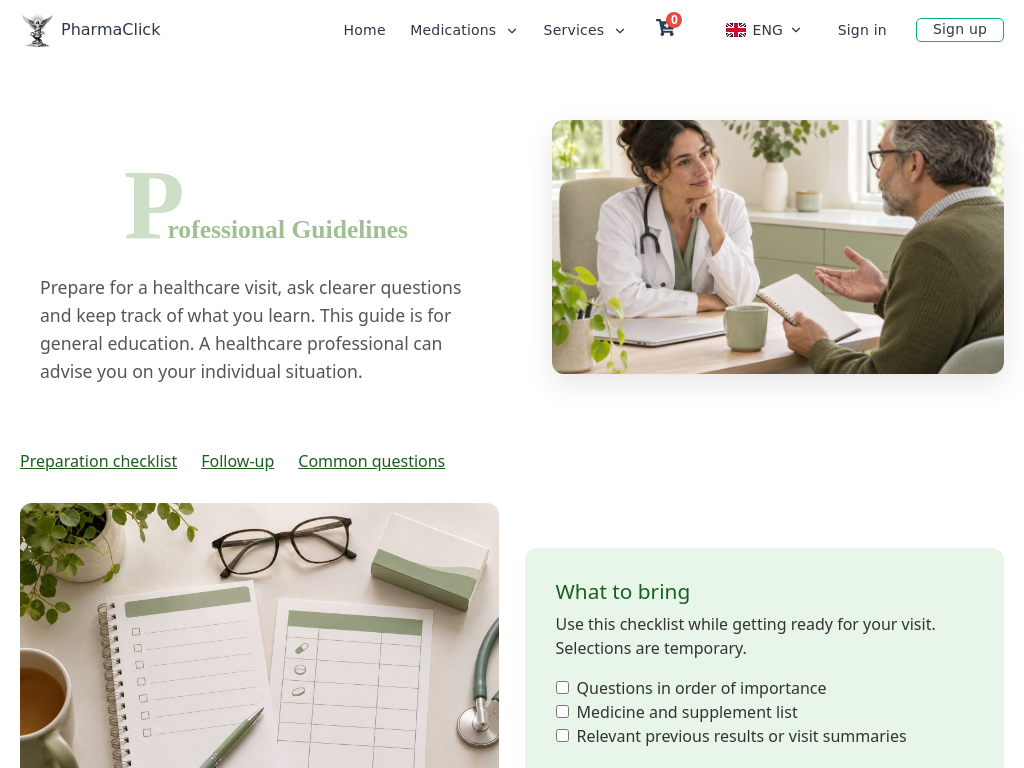
Test case: opens the Medications menu from the keyboard and keeps one mega menu open
Press ArrowDown in the button "Medications", box [410, 8, 519, 52]
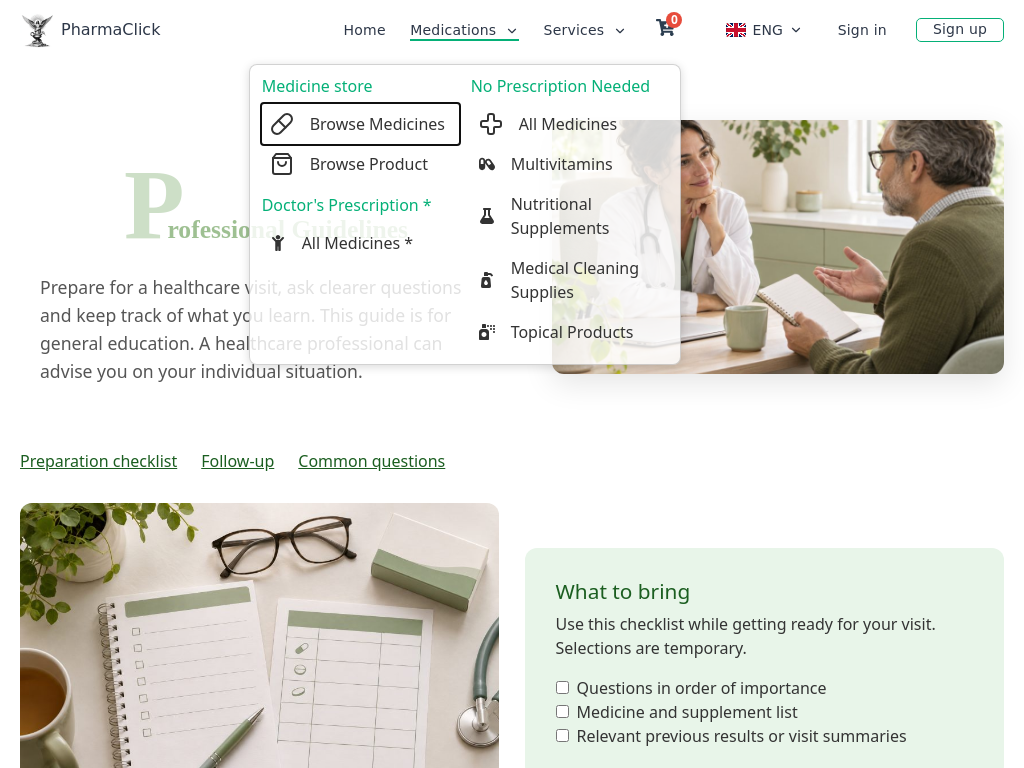
Now the button "Medications" is expanded, box [410, 8, 519, 52]
Press Escape in the link "Browse Medicines", box [262, 104, 459, 144]
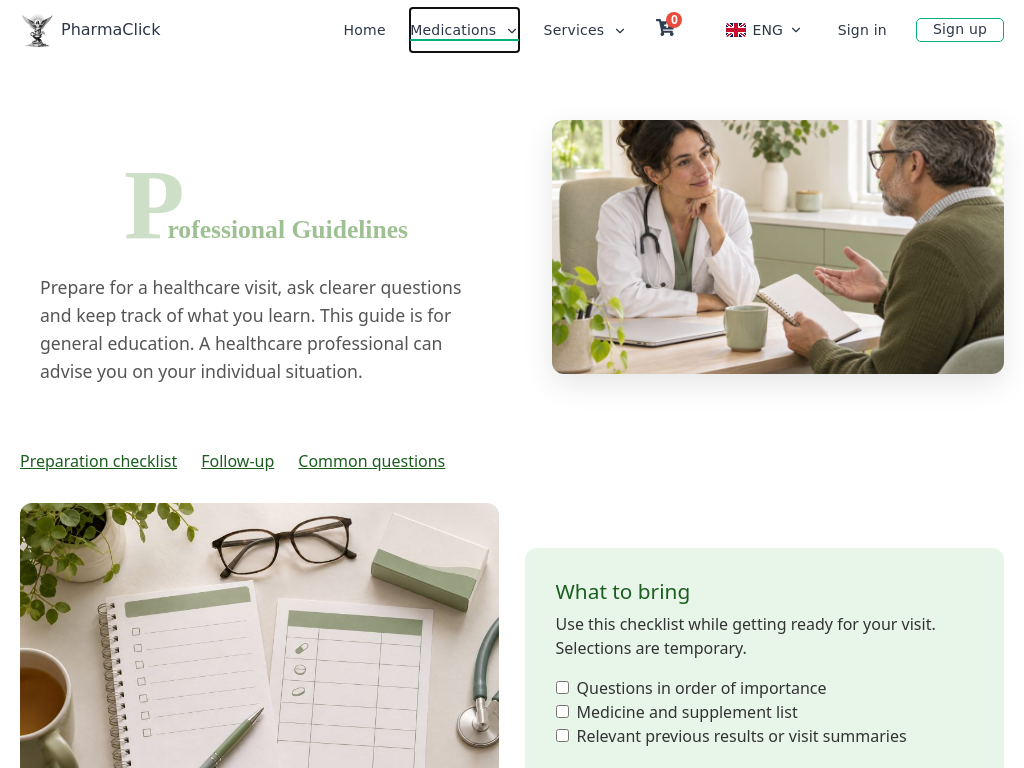
Click the button "Medications": point(465, 30) [410, 8, 519, 52]
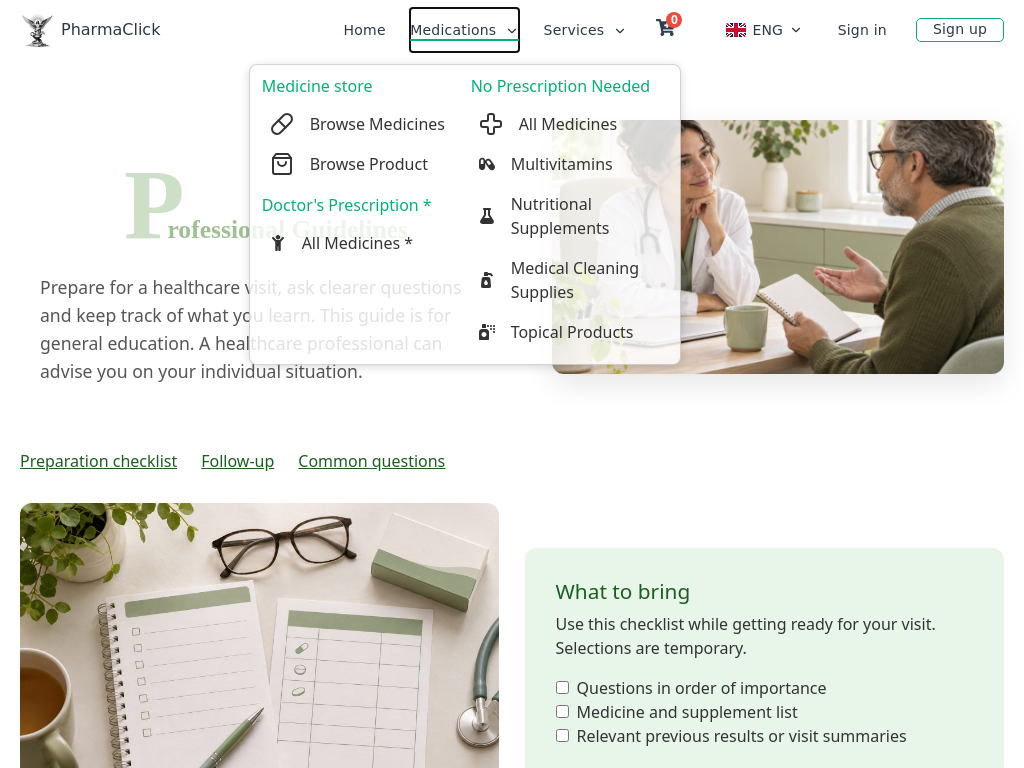
Click the button "Services": point(585, 30) [544, 8, 627, 52]
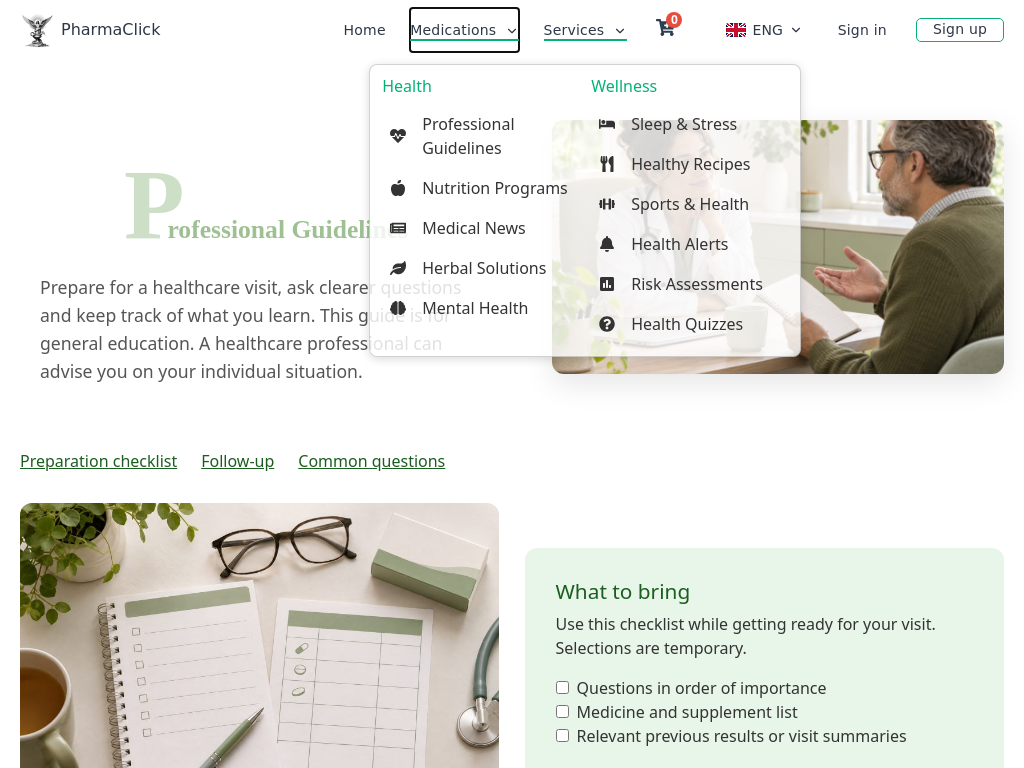
Now the button "Services" is expanded, box [544, 8, 627, 52]
Press the mouse on the heading "Professional Guidelines": point(154, 204) [124, 150, 408, 259]
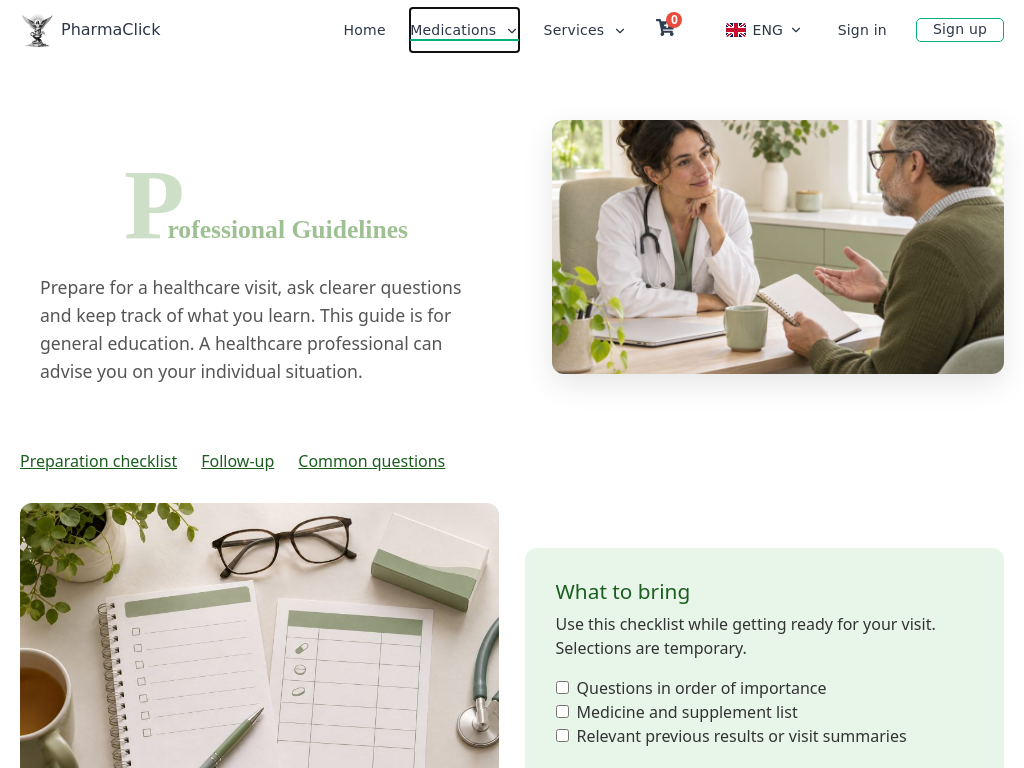
Now the button "Services" is collapsed, box [544, 8, 627, 52]
